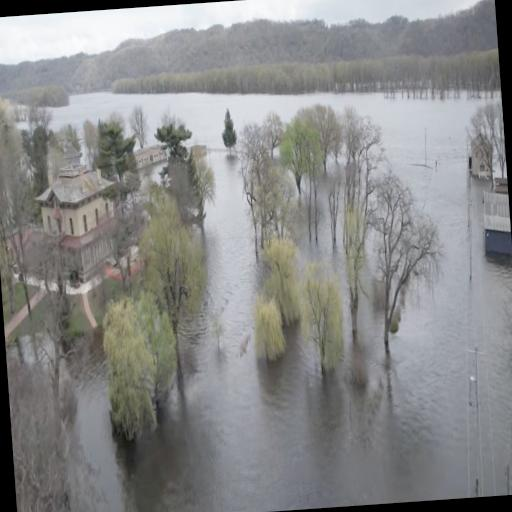flood: (65, 90, 485, 512), (468, 183, 512, 497)
house: (28, 130, 123, 296), (479, 187, 512, 263), (130, 137, 172, 171), (468, 129, 494, 183)
